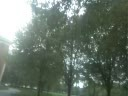window: (16, 10, 128, 96)
